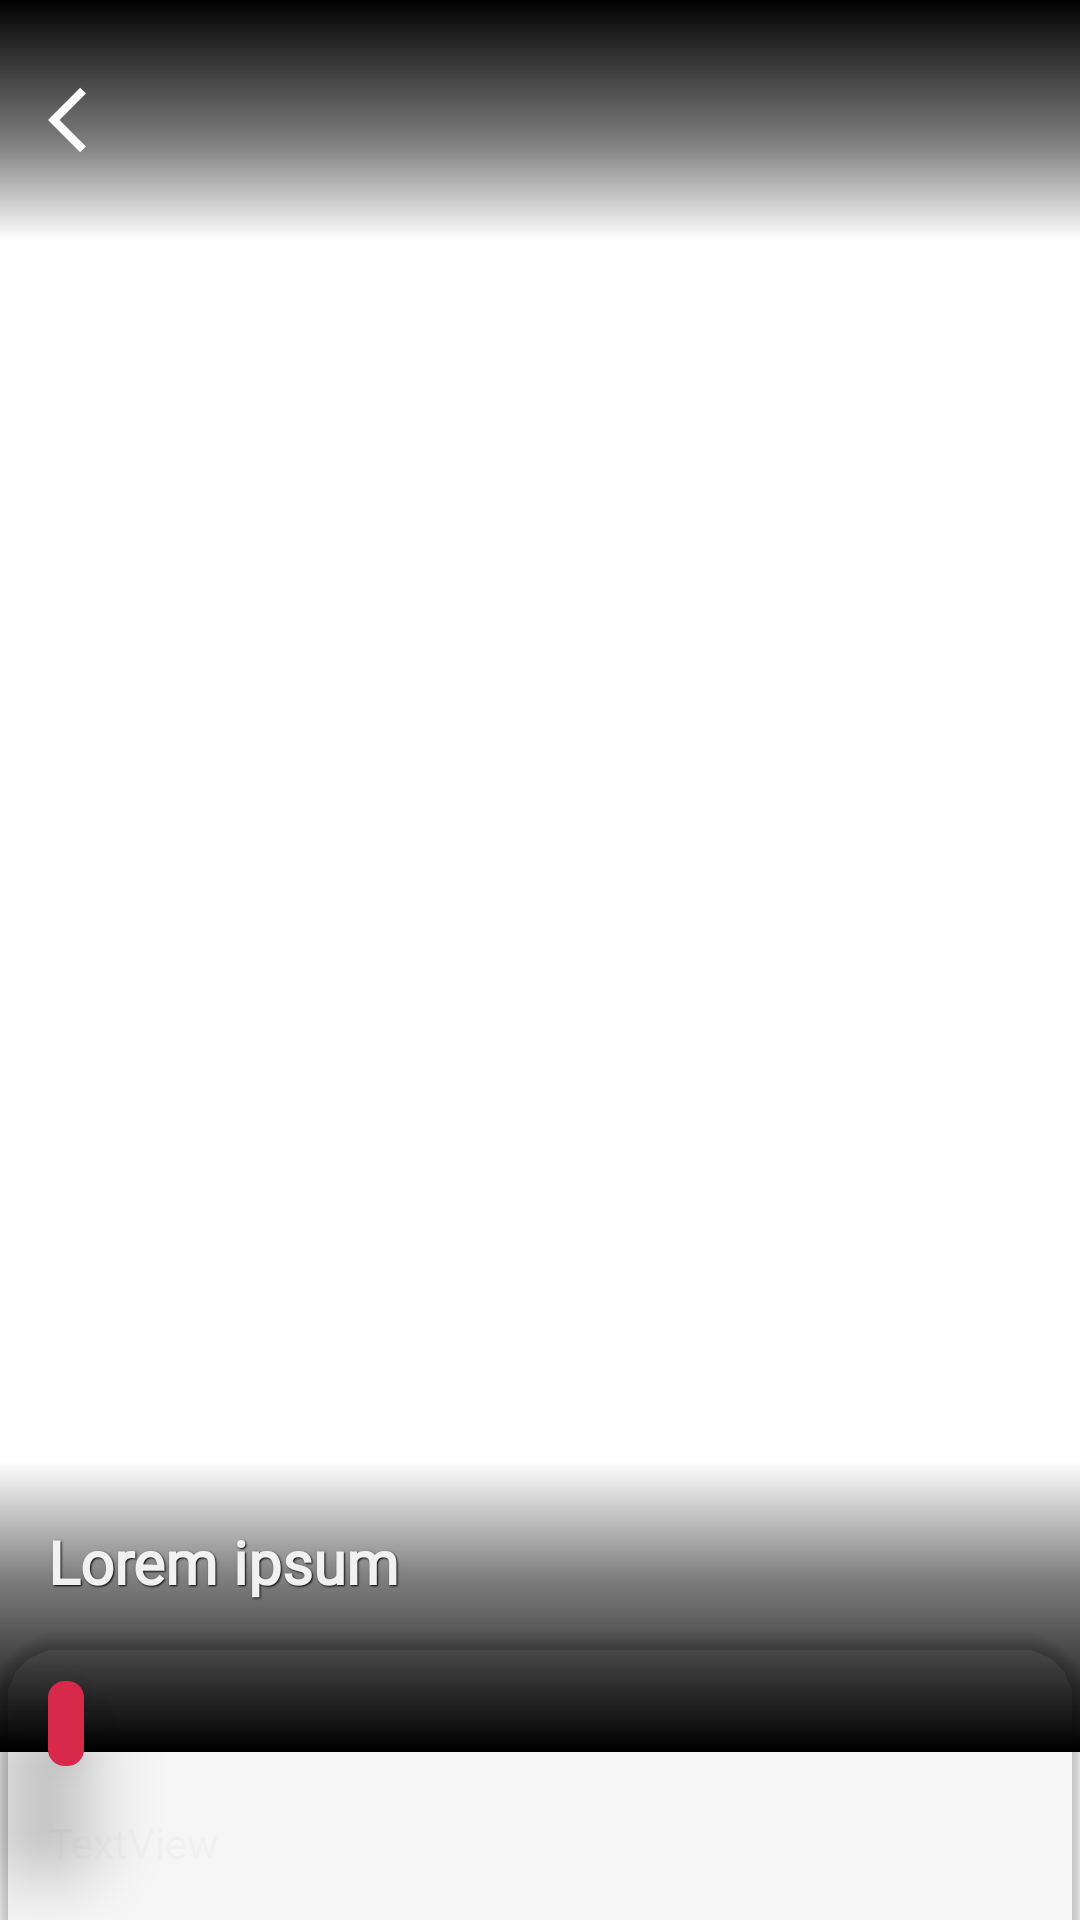

Icon click points for this 1080 x 1920 phone screenshot, format point (x, y):
arrow back: point (87, 120)
